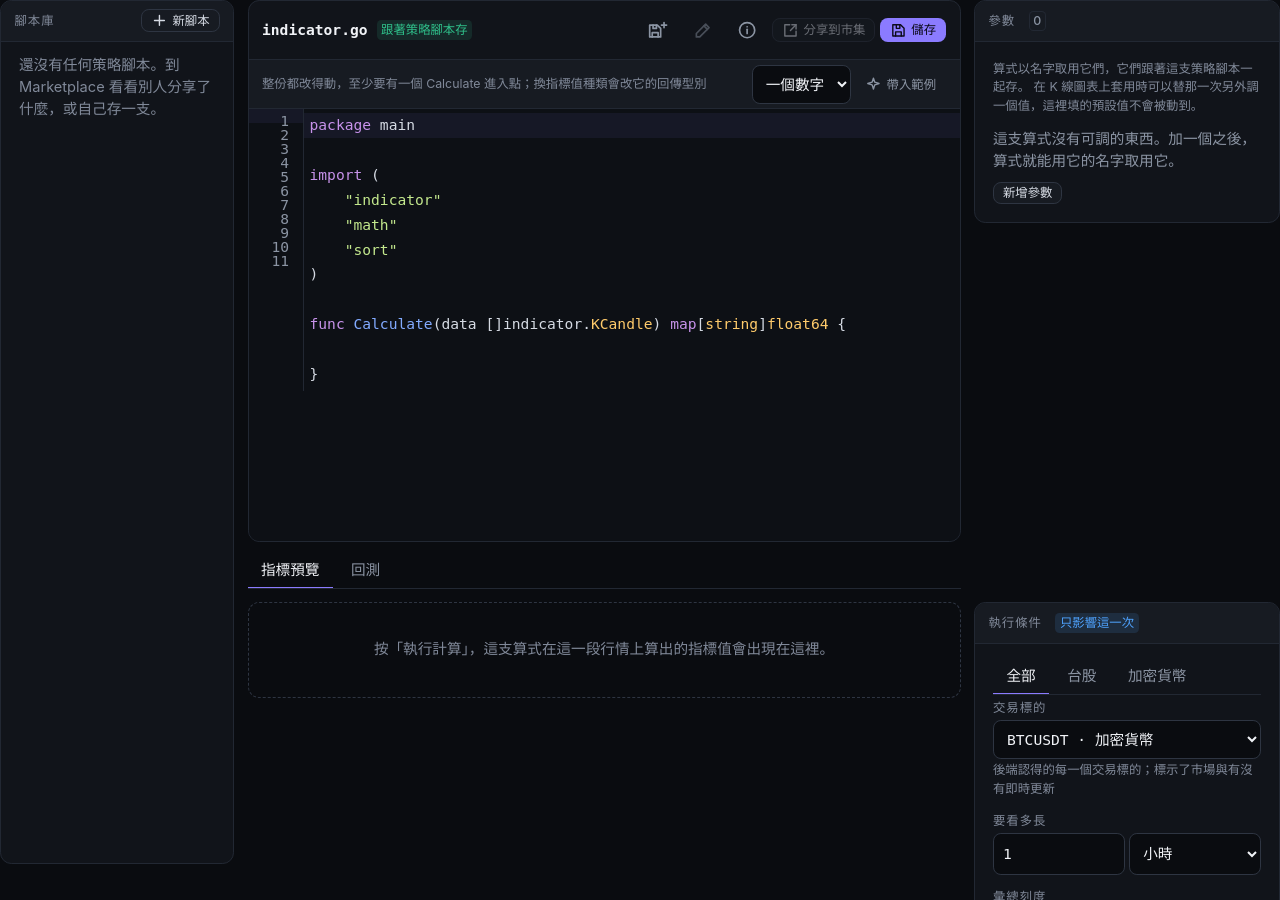
IndicatorCalculationPanel › 信號種類算出來時呈現一個結論，不是名稱-數值表
Select "一個信號" in the dropdown with test id "result-type-select" at (801, 84), box 752,65 -> 851,104
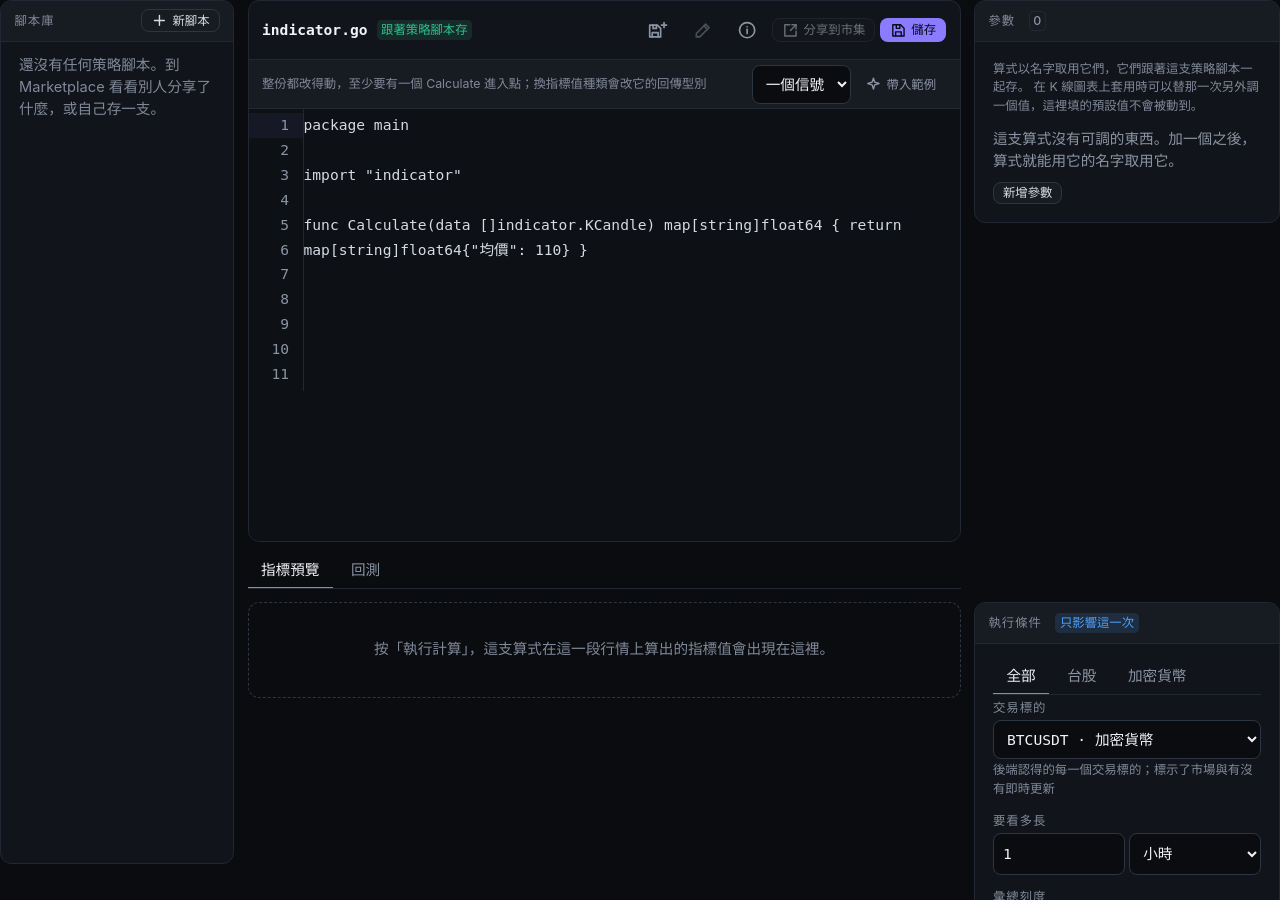
Clear the field with class "cm-content" at (356, 125), box 304,116 -> 910,258
(page scrolled)
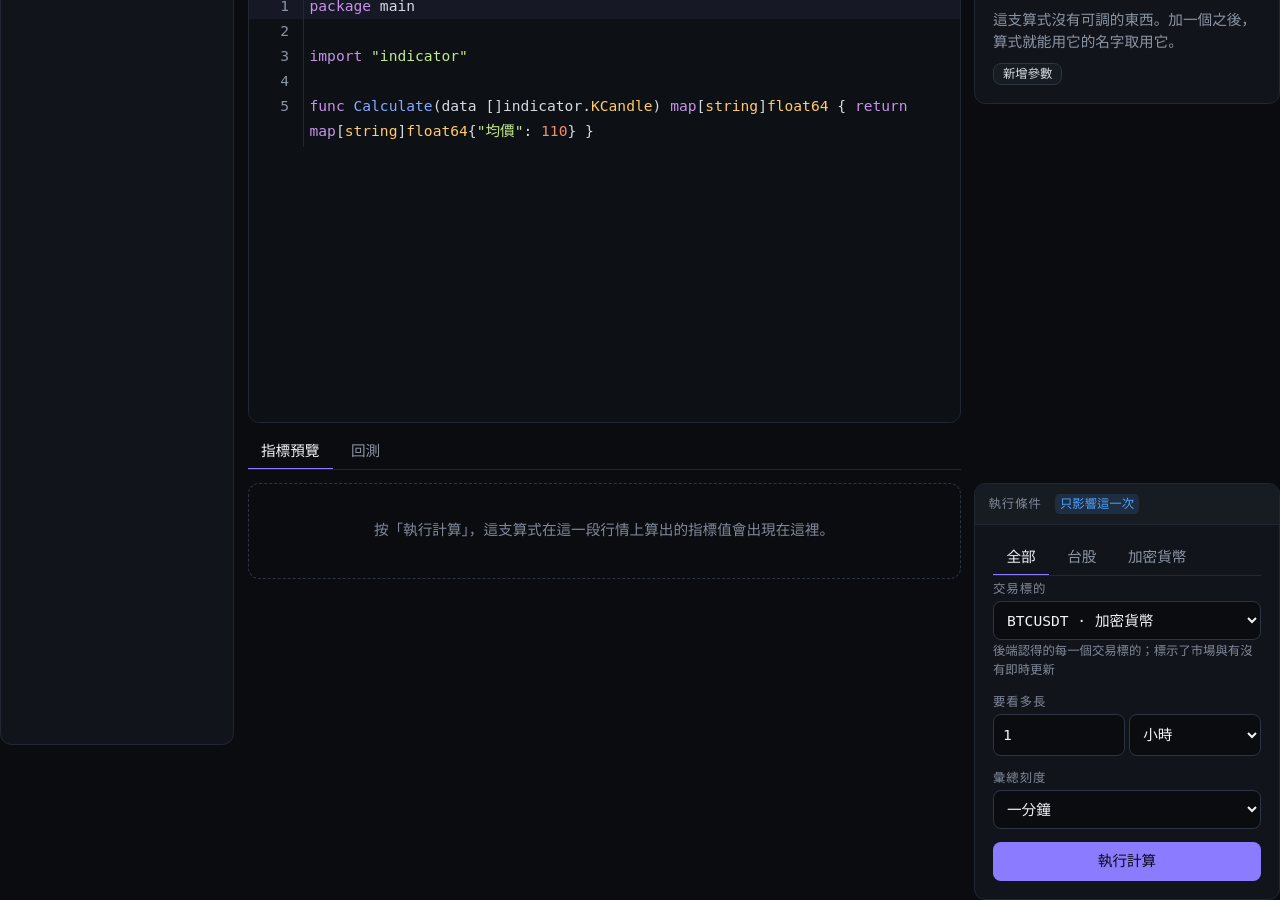
Submit the form, box 248,483 -> 1279,899
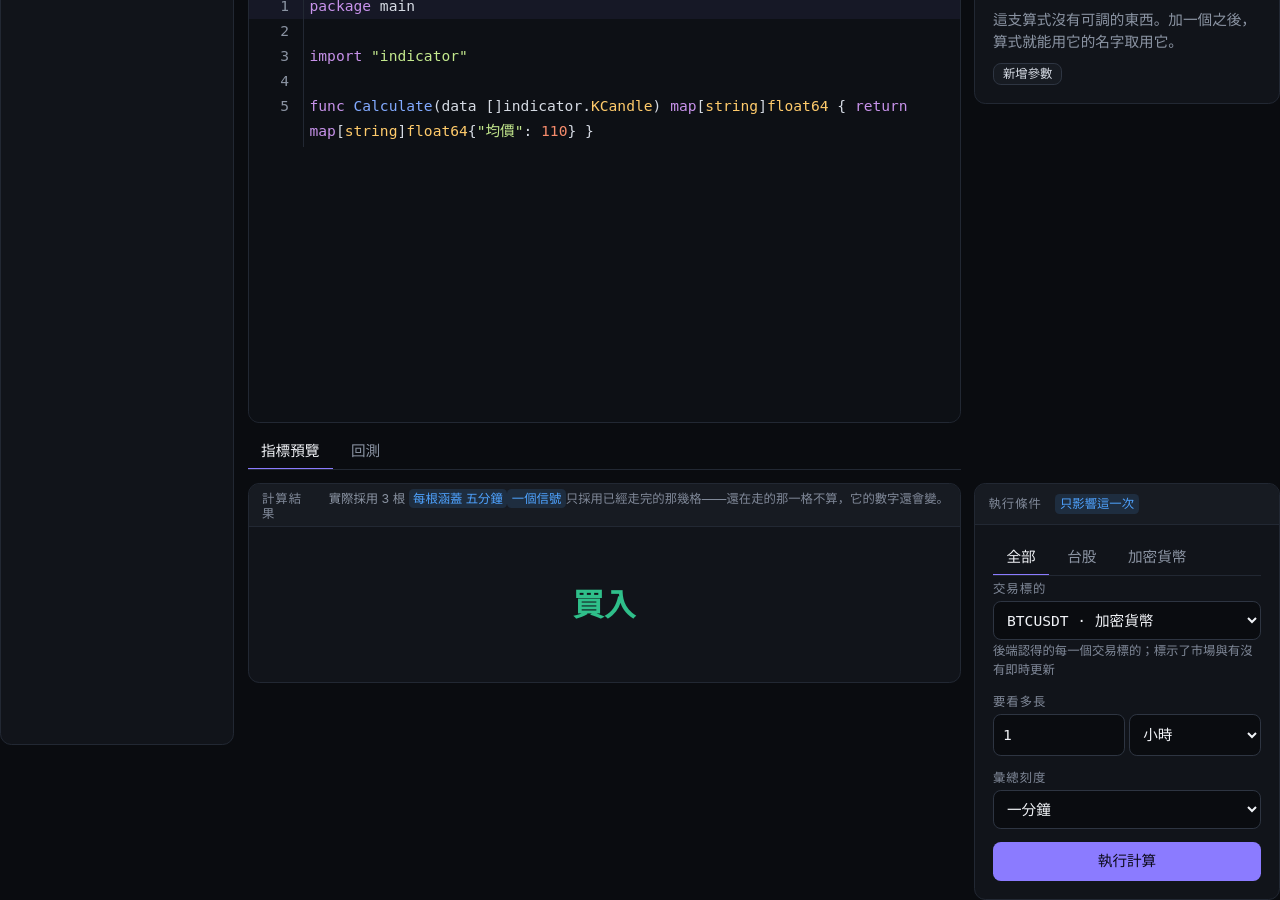
Expected: the text with test id "signal-verdict" reads "買入", 572,585 -> 636,624
